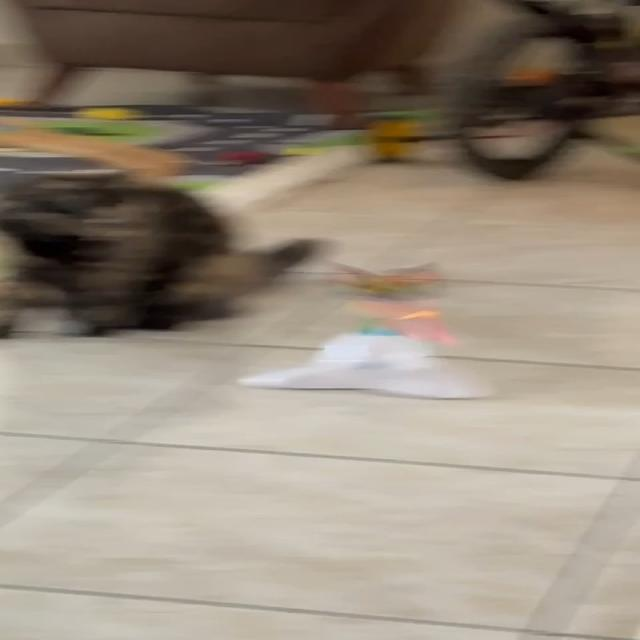authorized: (0, 170, 332, 338)
